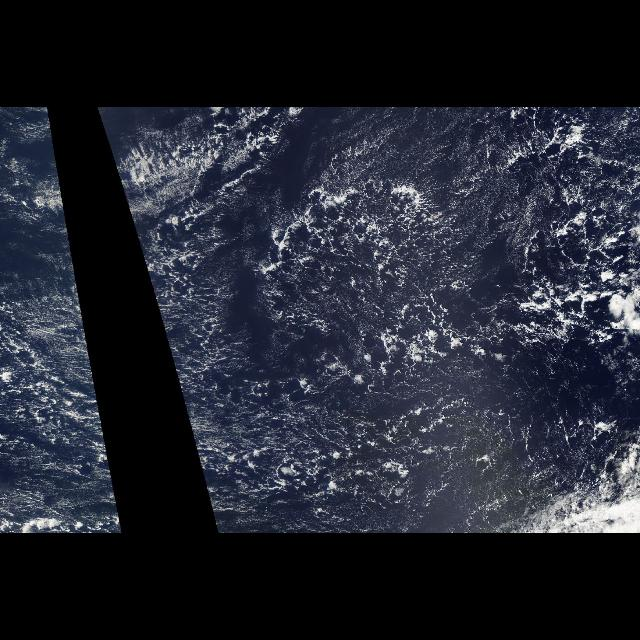Gravel: (151, 143, 603, 533), (8, 291, 116, 504)
